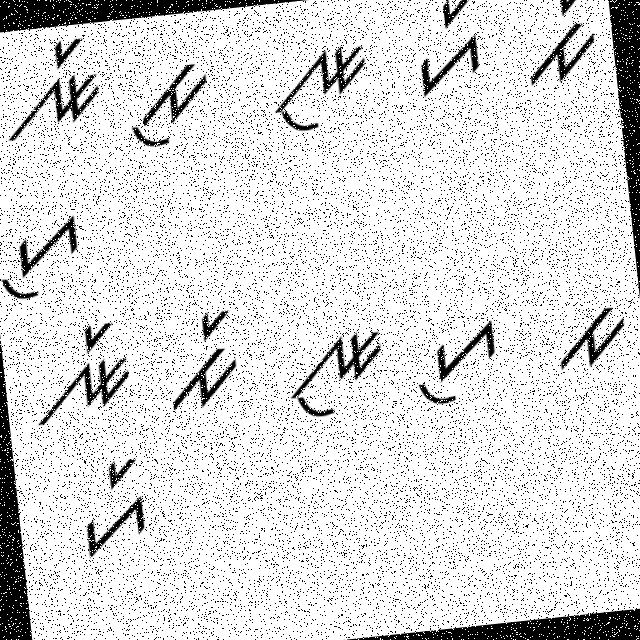har: (64, 444, 156, 566), (409, 0, 493, 103)
haw: (407, 314, 508, 414), (0, 207, 97, 309)
mba: (542, 285, 635, 378)
mbar: (160, 301, 247, 420), (516, 0, 606, 98)
mbaw: (115, 40, 218, 166)
ndar: (0, 28, 114, 159), (25, 314, 141, 430)
ndaw: (280, 314, 390, 424), (263, 33, 376, 139)
